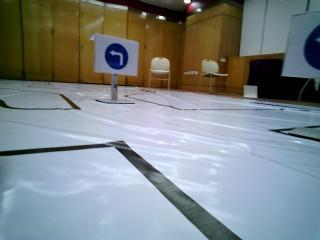left: (96, 41, 137, 74)
